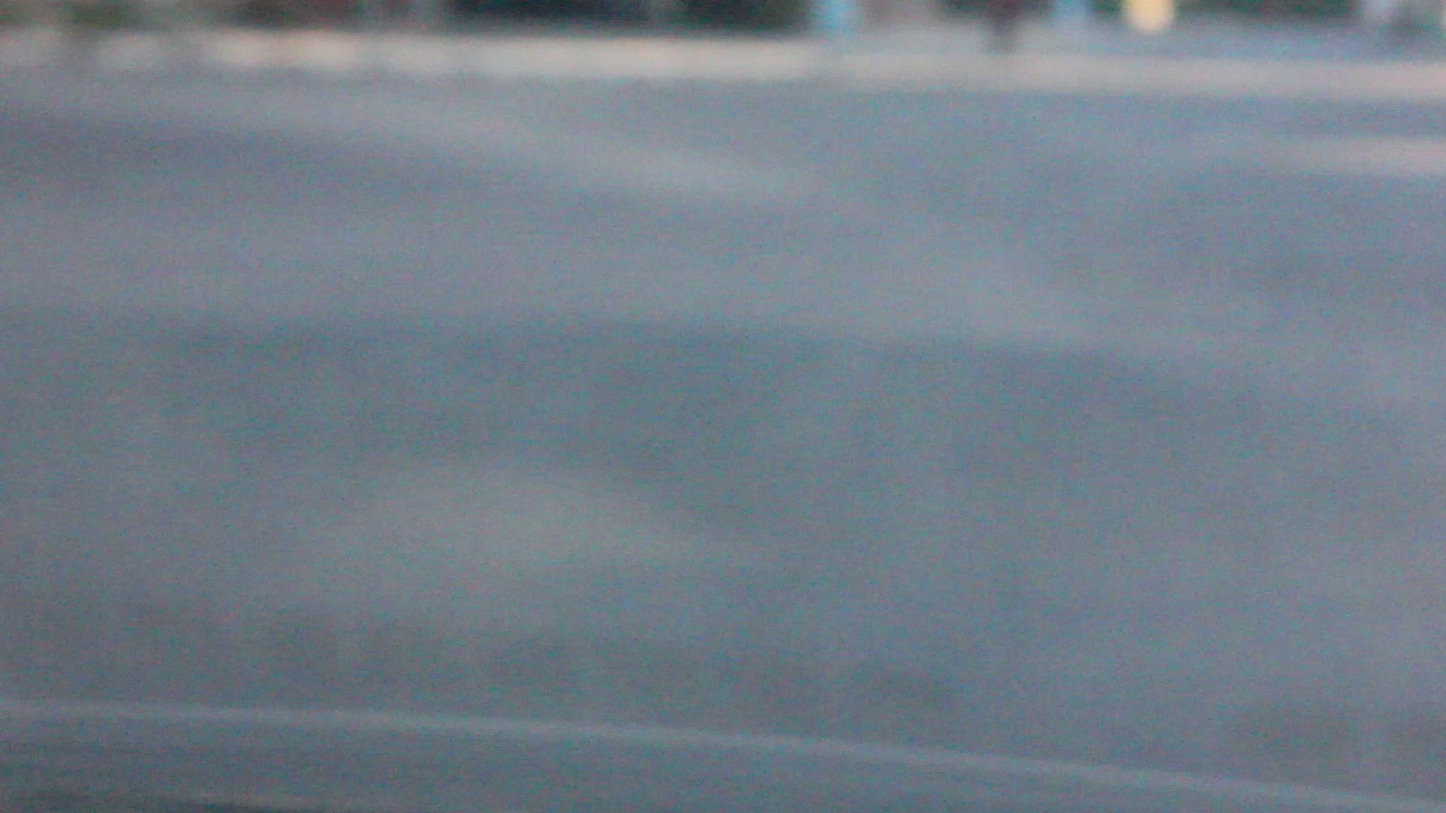Bump: (0, 303, 1446, 469)
